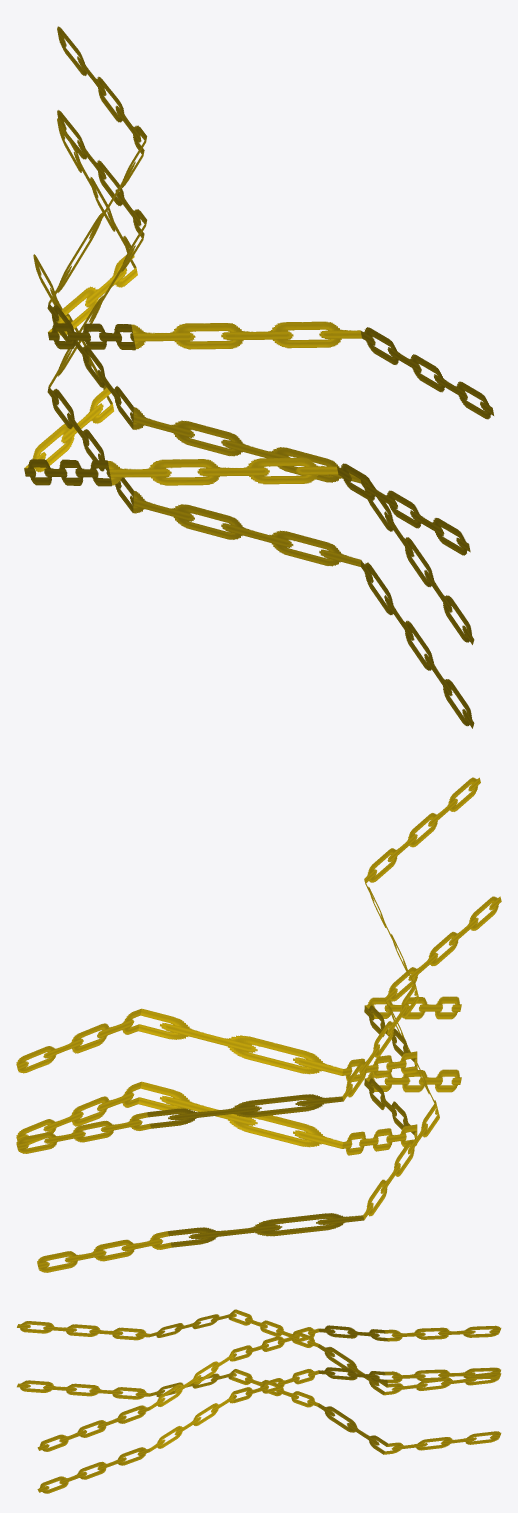
File: shackles.glb
3 renders of one model, top to bottom at view 1: azimuth 30°, elevation 25°; view 2: azimuth 150°, elevation 25°; view 3: azimuth 270°, elevation 25°, orthographic. The views are drawn at different scales.
Parts seen in each view (by area): view 1: Plane.001; view 2: Plane.001; view 3: Plane.001.
Boxes of the visible parts, x1,y1,x2,y2 form: Plane.001: (24, 26, 493, 728); Plane.001: (16, 777, 501, 1272); Plane.001: (17, 1309, 501, 1493).
Size of the model in its own units: 3.12 by 5.21 by 12.34.
1 material, 1 textured.
